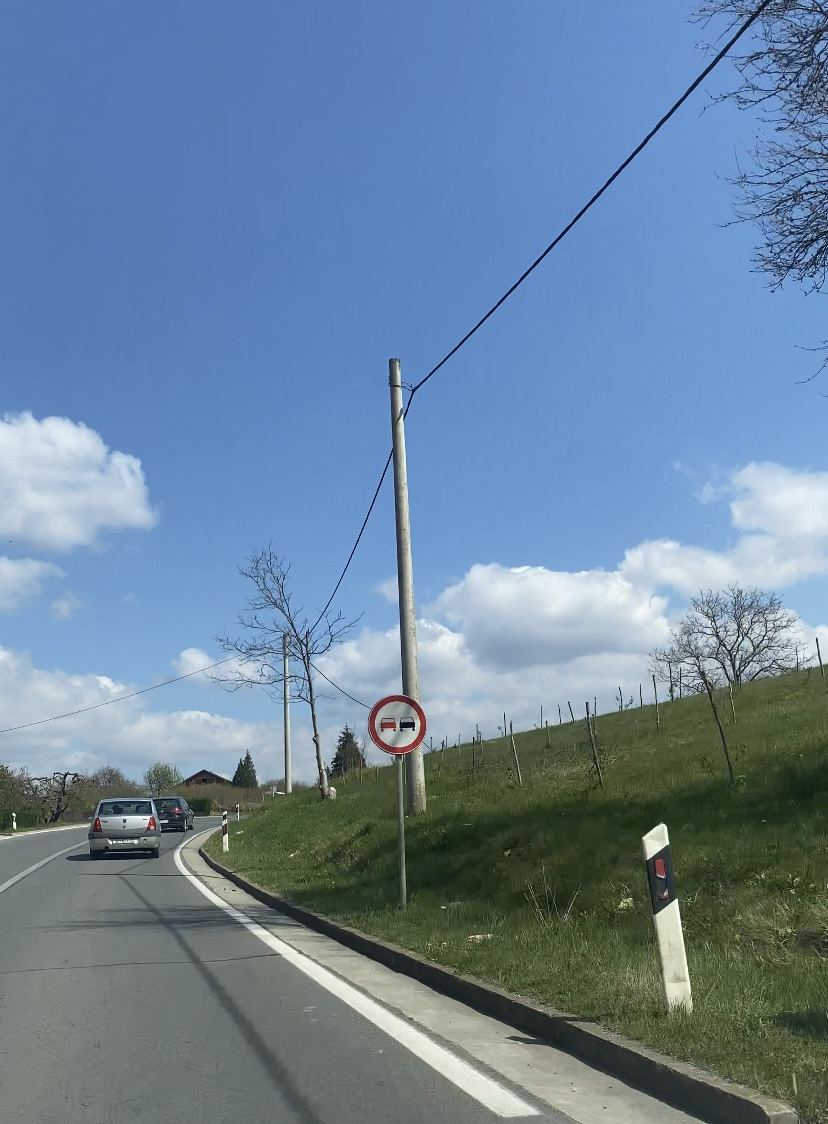Zabrana pretjecanja: (368, 695, 426, 754)
